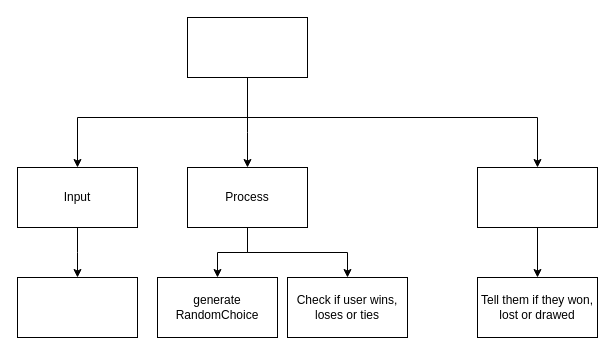
Image size: 615x355. Some labels were removed from this diagram. The shapes that lost their labels are listed below. From the top down, each one's centre as x and y in pixels, then its label:
At (x=247, y=47): "Rock, paper scissor".
At (x=537, y=197): "Output".
At (x=77, y=307): "Get rock, paper or scissor from user".
